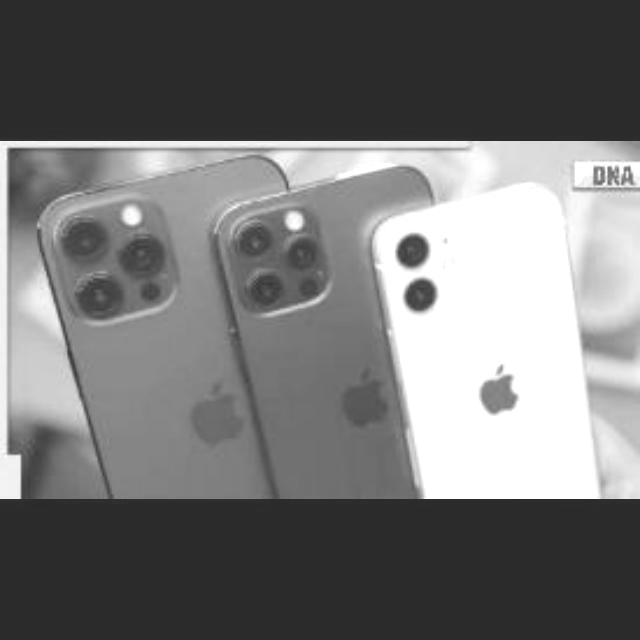fake: (0, 100, 547, 519)
